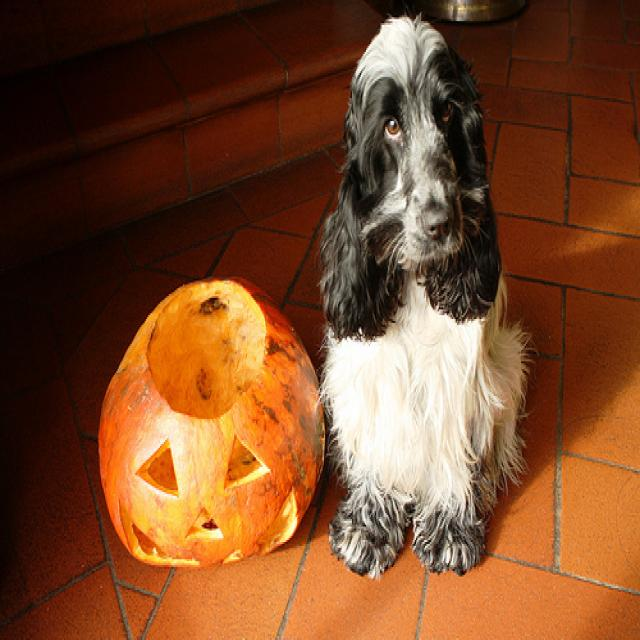dog-english_cocker_spaniel: (315, 4, 538, 590)
